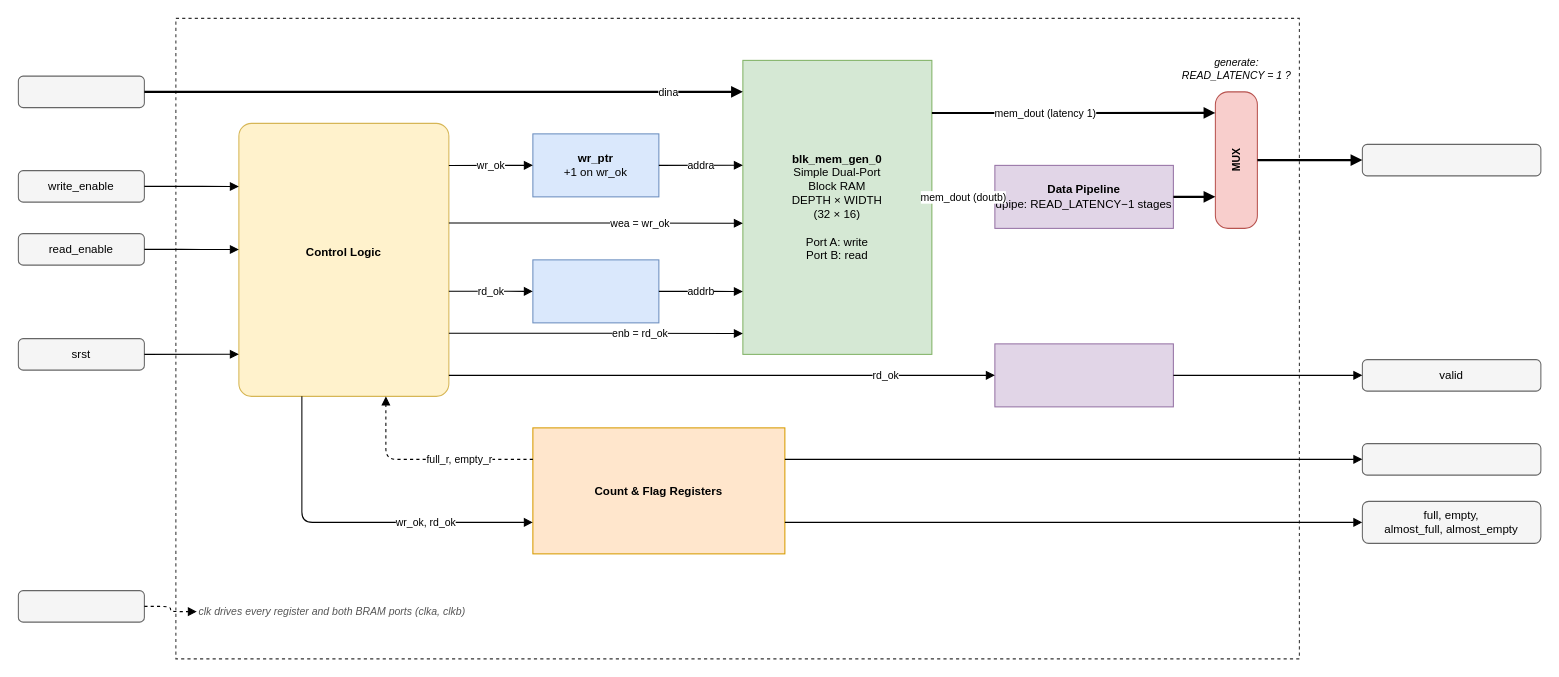
The diagram is 1559 pixels wide and 677 high, and some of its shapes have lost their labels. The shapes that lost their labels are listed below. From the top down, each one's centre as x and y in pixels, then its label:
the point at 80,91: data_in [WIDTH-1:0]
the point at 1451,159: data_out [WIDTH-1:0]
the point at 595,291: rd_ptr +1 on rd_ok
the point at 1083,375: Valid Pipeline vpipe: READ_LATENCY stages
the point at 1451,459: data_count
the point at 80,606: clk
